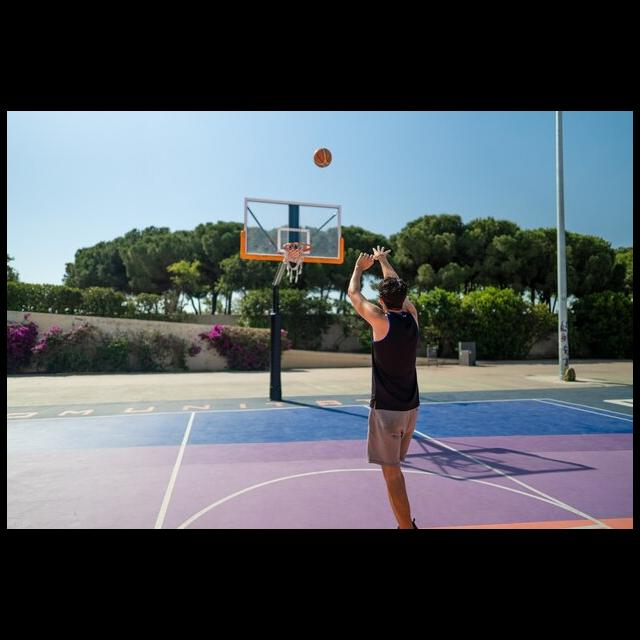basketball: (312, 146, 330, 167)
hoop: (282, 244, 309, 275)
